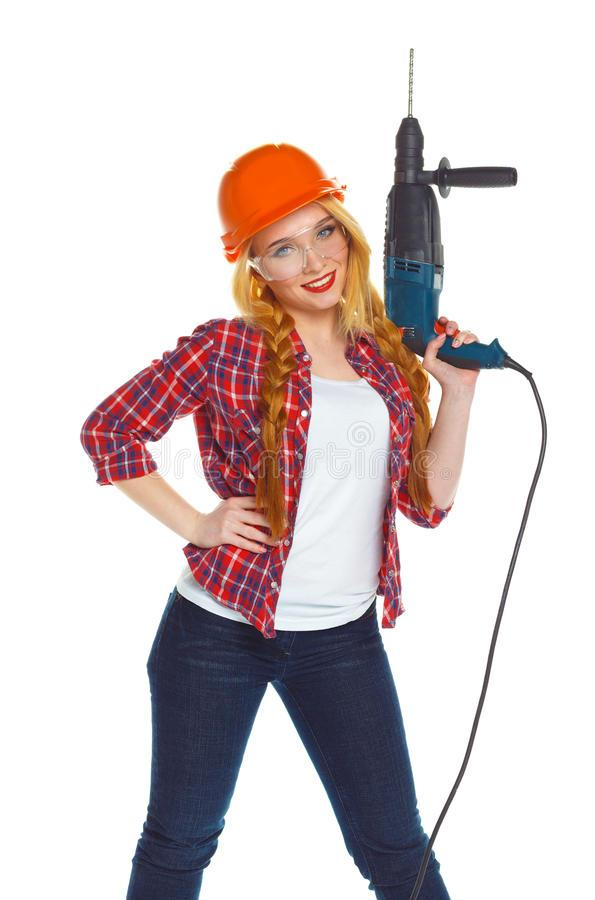helmet: (217, 140, 345, 251)
